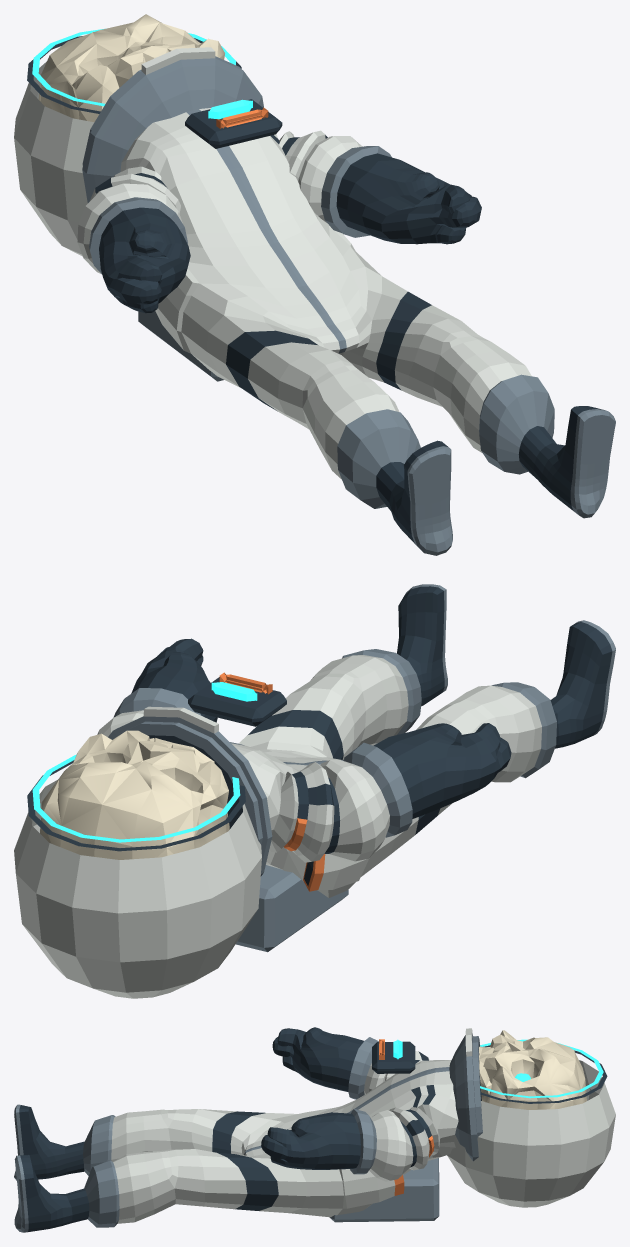
File: SM_SkeletonAstronaut_Corpse.fbx
3 views of the same model, one above another, from view 1: azimuth 30°, elevation 25°; view 2: azimuth 150°, elevation 25°; view 3: azimuth 270°, elevation 25° (orthographic). The views are drawn at different scales.
Parts seen in each view (by area): view 1: SM_SkeletonAstronaut_Corpse; view 2: SM_SkeletonAstronaut_Corpse; view 3: SM_SkeletonAstronaut_Corpse.
Part boxes in pixels (x1,y1,x2,y2): SM_SkeletonAstronaut_Corpse: (14, 14, 615, 555); SM_SkeletonAstronaut_Corpse: (14, 584, 615, 998); SM_SkeletonAstronaut_Corpse: (14, 1027, 615, 1232).
Bounding box in the file's own units: 97.34 × 209 × 64.57.
